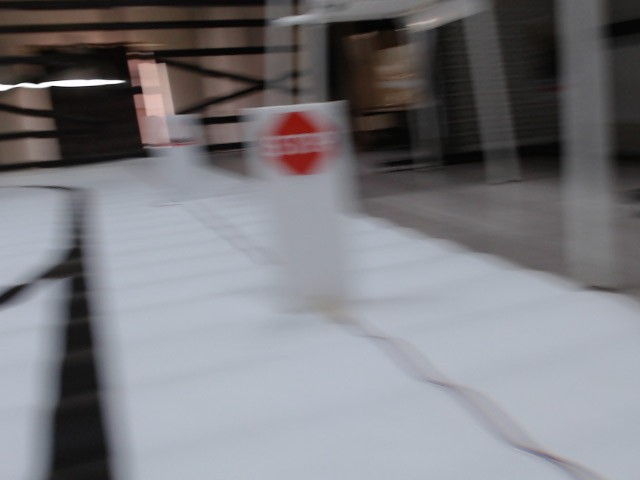Stop: (272, 111, 333, 177)
